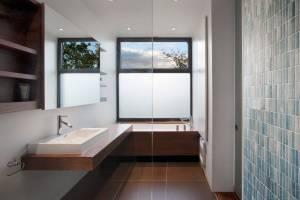window: (116, 36, 191, 121)
